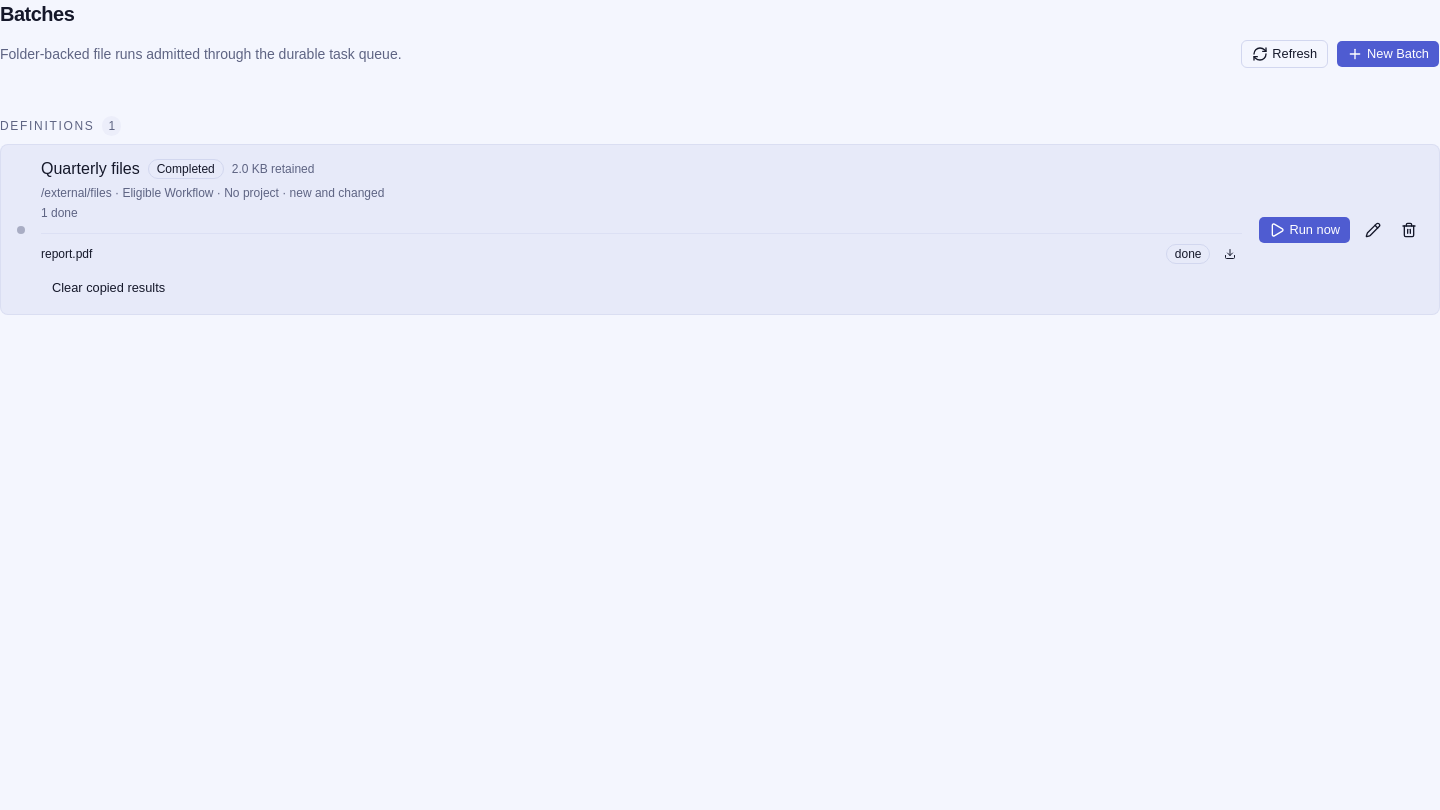
BatchOverview › warns separately before clearing copied results and deleting rerun history
Click the button with aria-label "Clear copied results for Quarterly files".
click(109, 288)  # box x1=41 y1=274 x2=176 y2=302
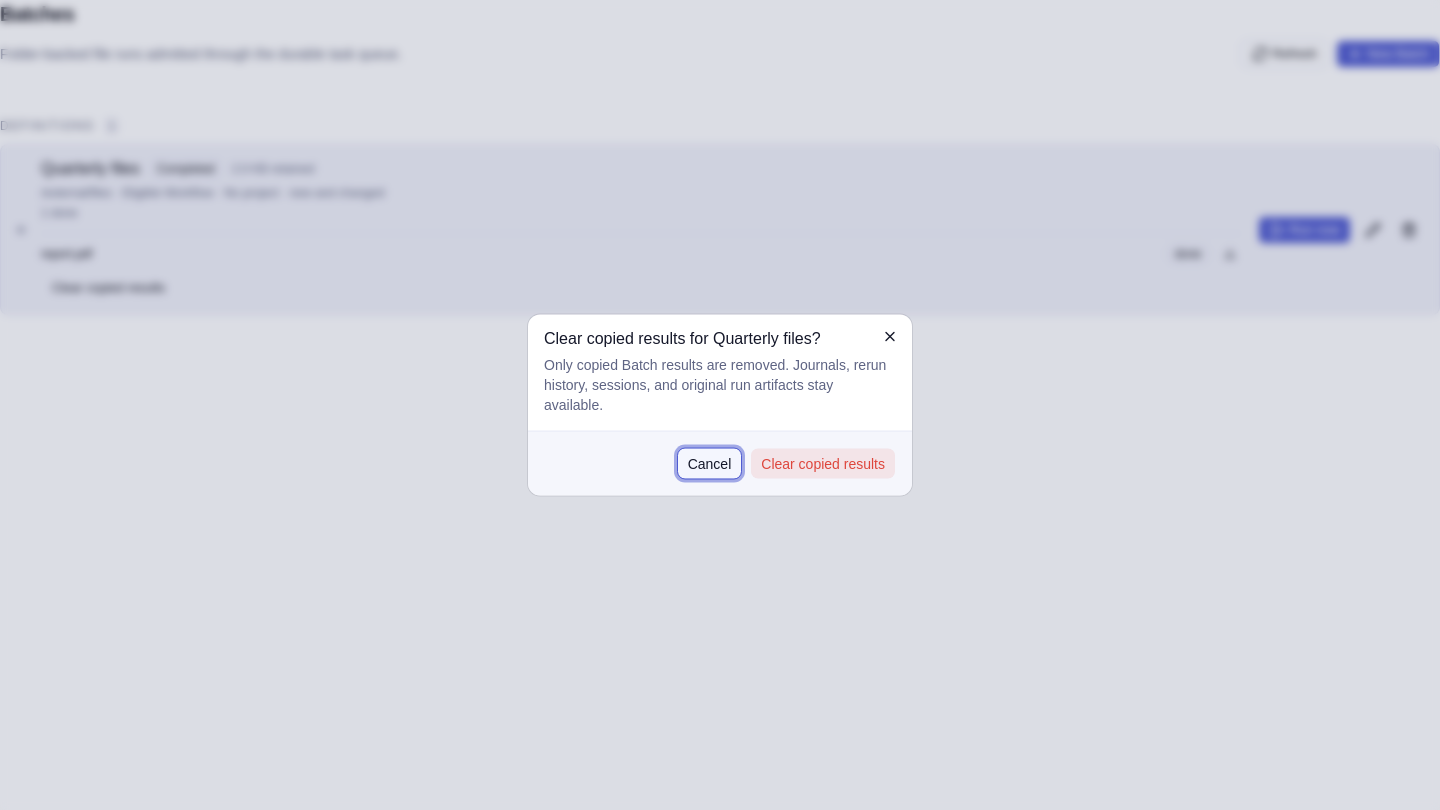
Result: the text "journals, rerun history, sessions, and original run artifacts stay" is shown at x1=544 y1=356 x2=886 y2=412
Click the button "Clear copied results".
click(823, 464)  # box x1=750 y1=448 x2=896 y2=480
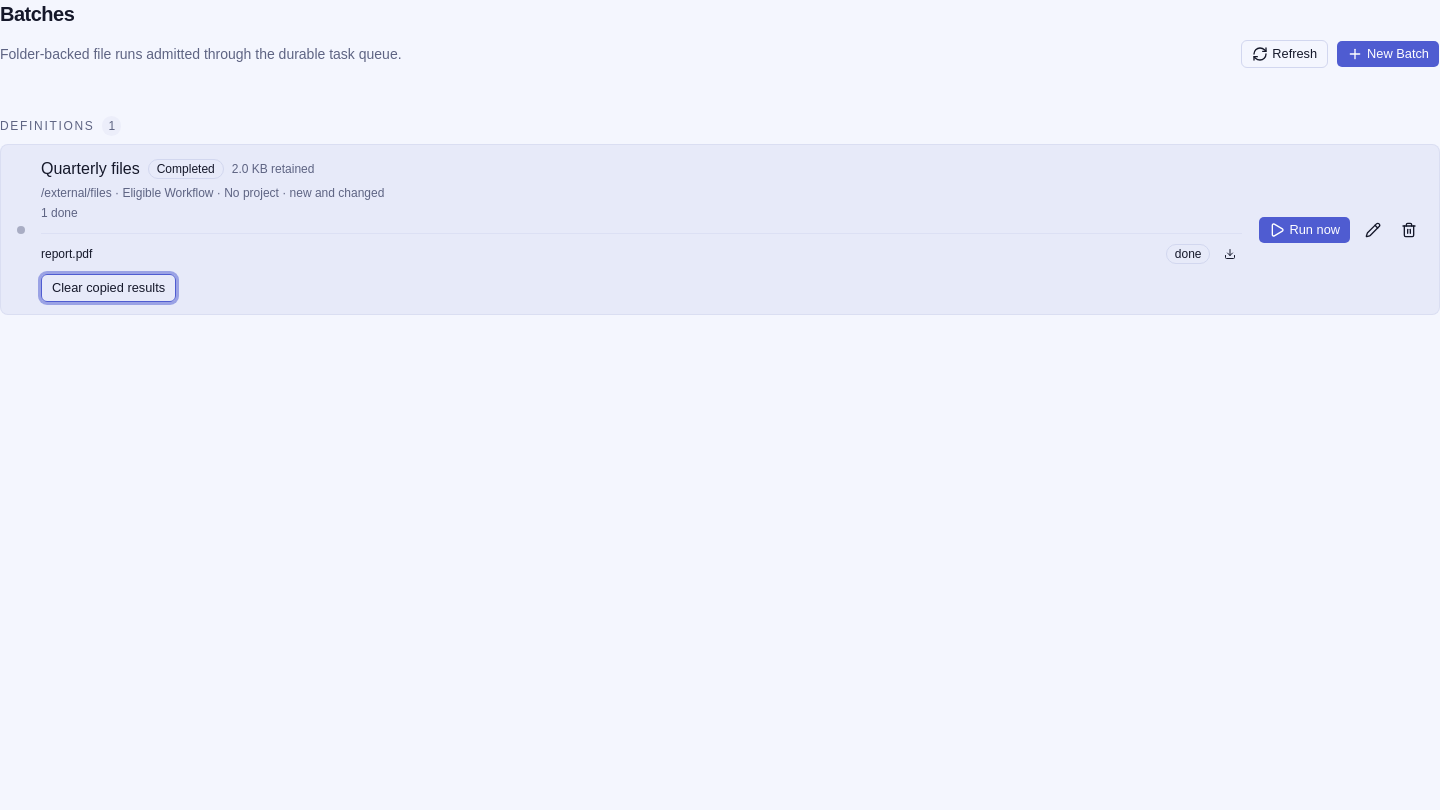
Click the button named "Delete Quarterly files".
click(1409, 230)  # box x1=1395 y1=216 x2=1423 y2=244
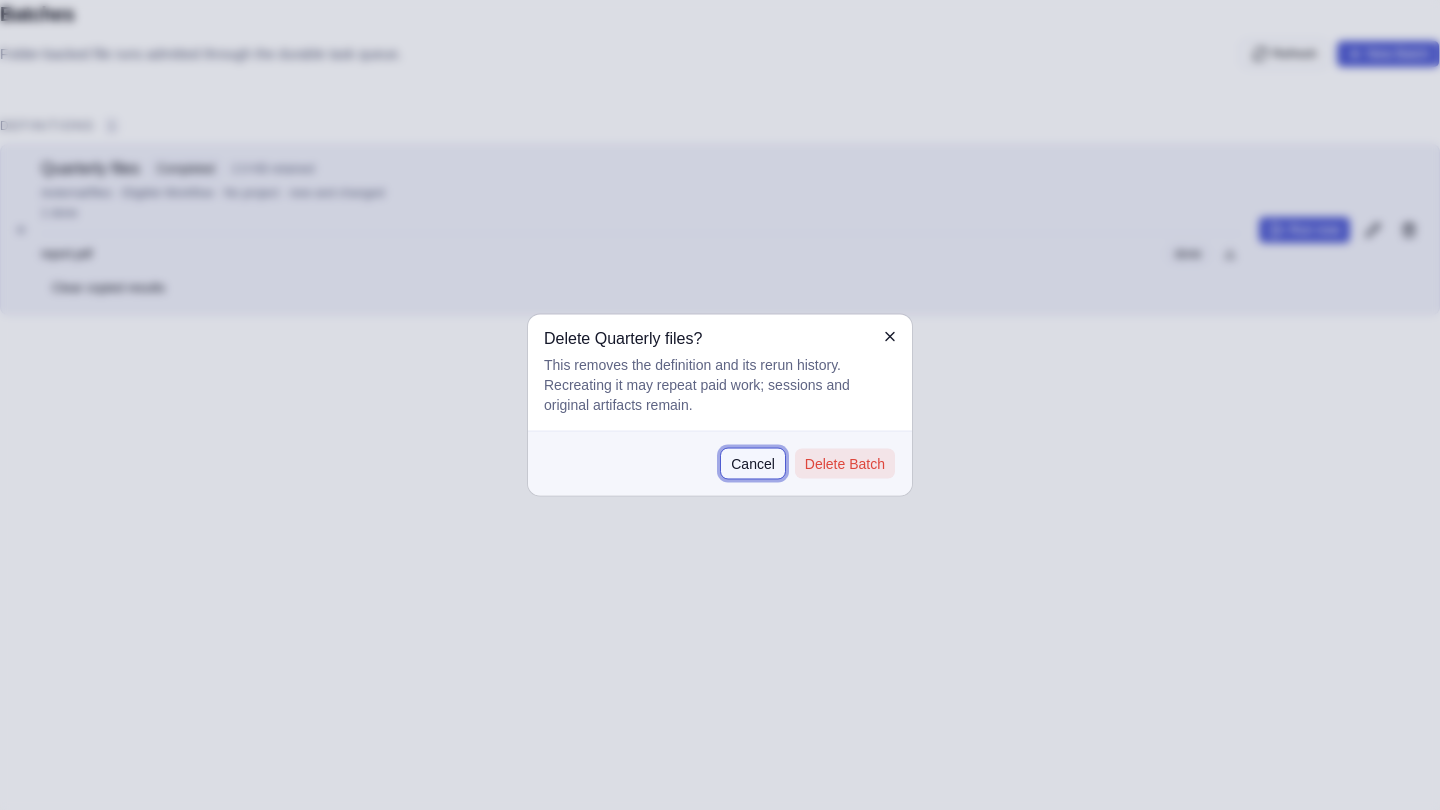
Result: the text "may repeat paid work" is shown at x1=544 y1=356 x2=850 y2=412
